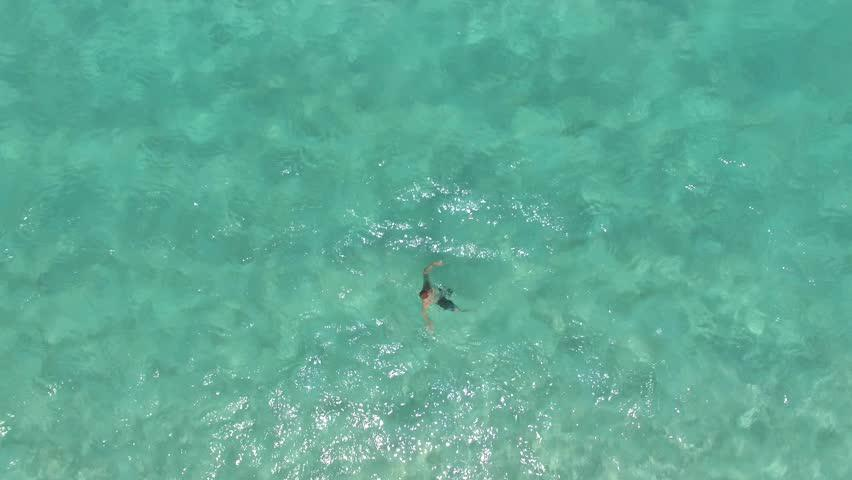swimmer: (415, 258, 464, 336)
